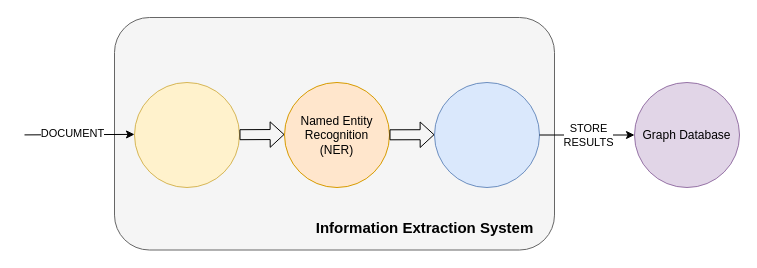
Some shapes in this 757 by 268 pixel diagram are drawn without their labels. Each missing label, with the centre of its shape:
"Coreference Resolution (CR)" goes at point (187, 135).
"Relation Extraction (RE)" goes at point (487, 135).
